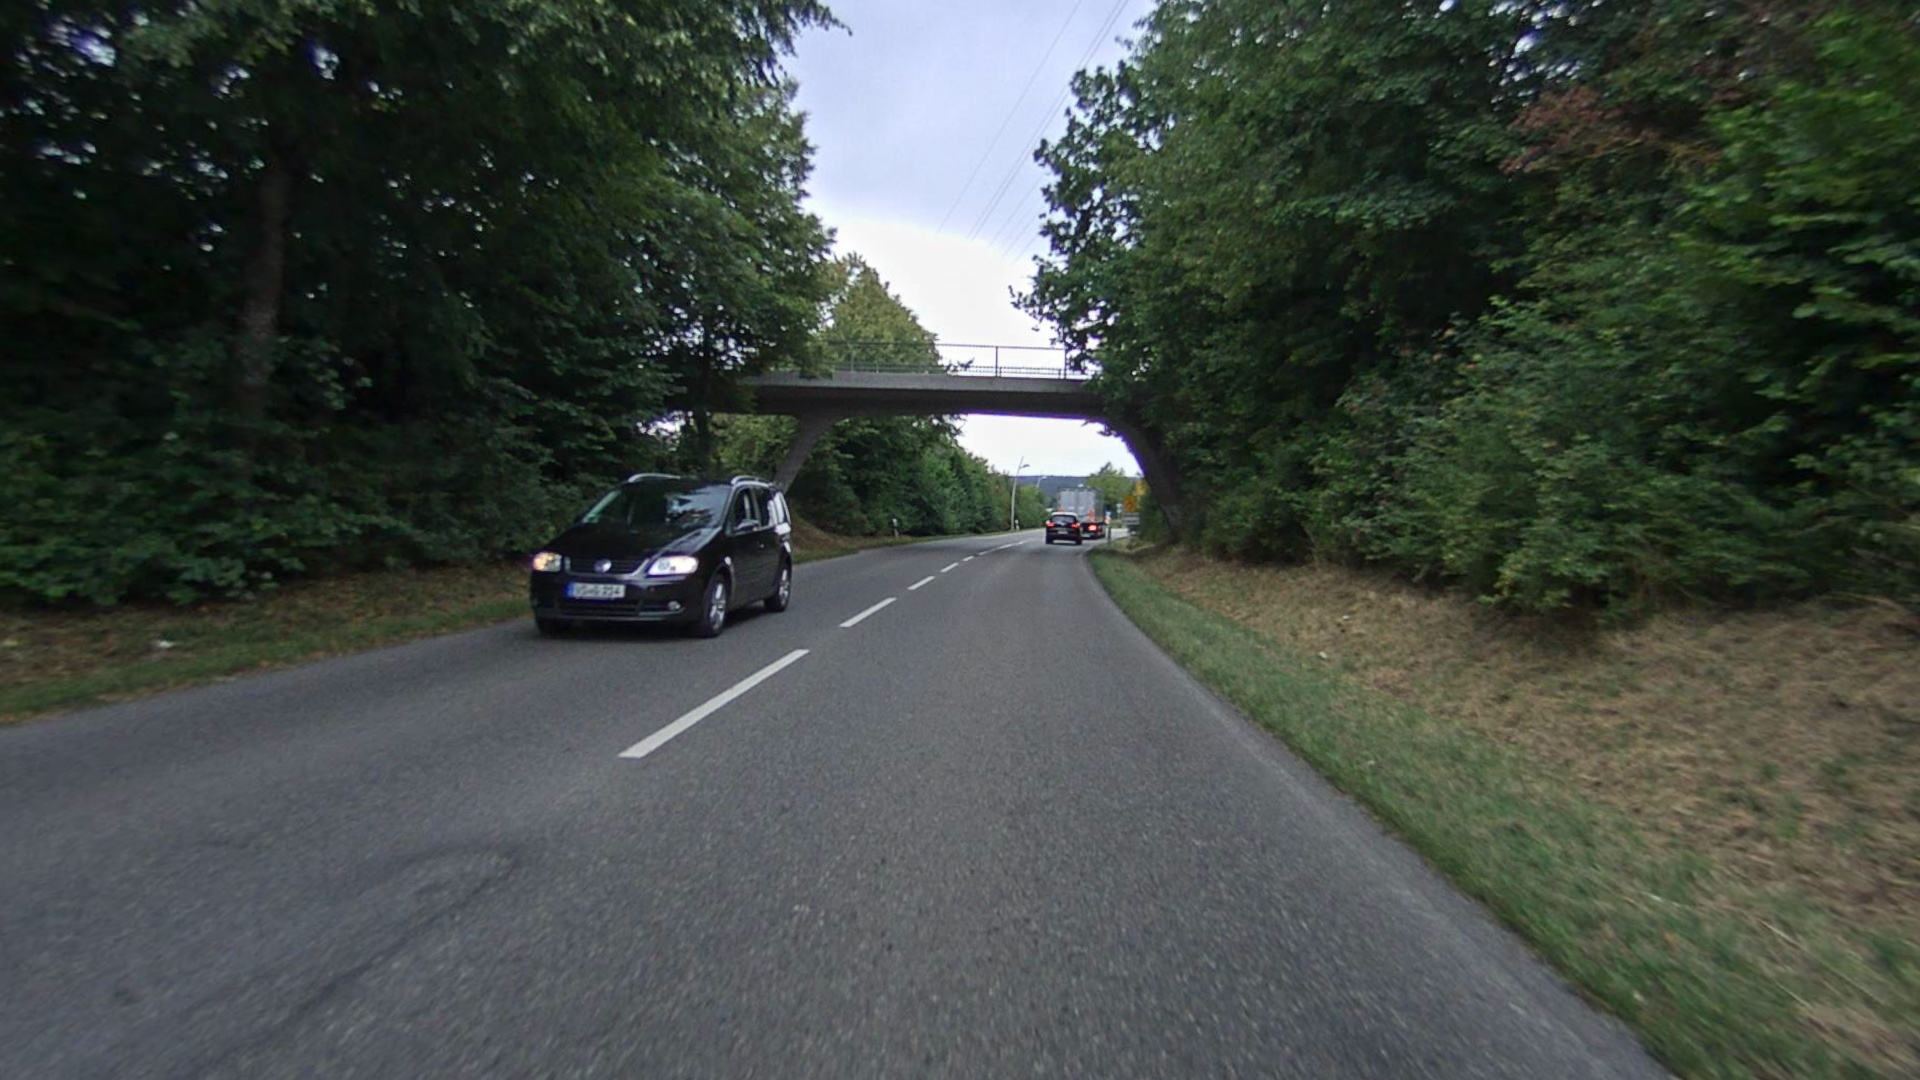car: (525, 472, 796, 644)
